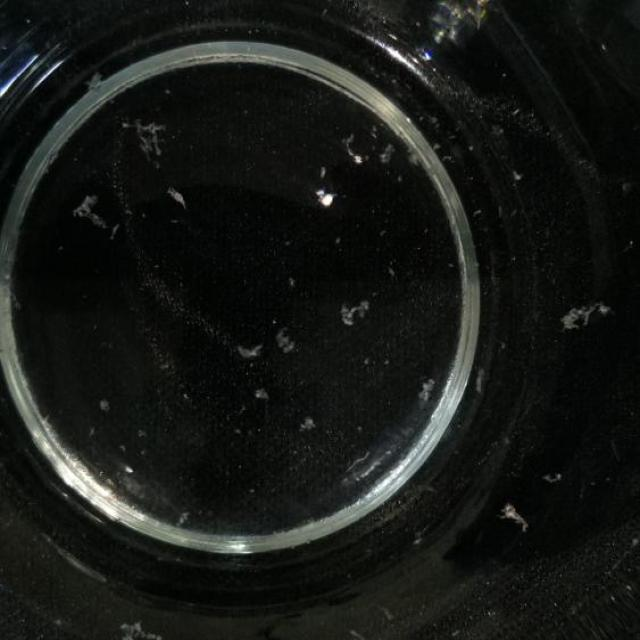fiber: (556, 294, 610, 350), (124, 112, 168, 167), (497, 494, 539, 544), (74, 193, 123, 235), (335, 297, 375, 337), (412, 366, 446, 409), (112, 616, 170, 639), (272, 326, 304, 364), (290, 405, 324, 439), (234, 340, 270, 370), (165, 178, 191, 210), (78, 71, 112, 92), (250, 378, 273, 404), (334, 626, 371, 639), (476, 0, 497, 12)
